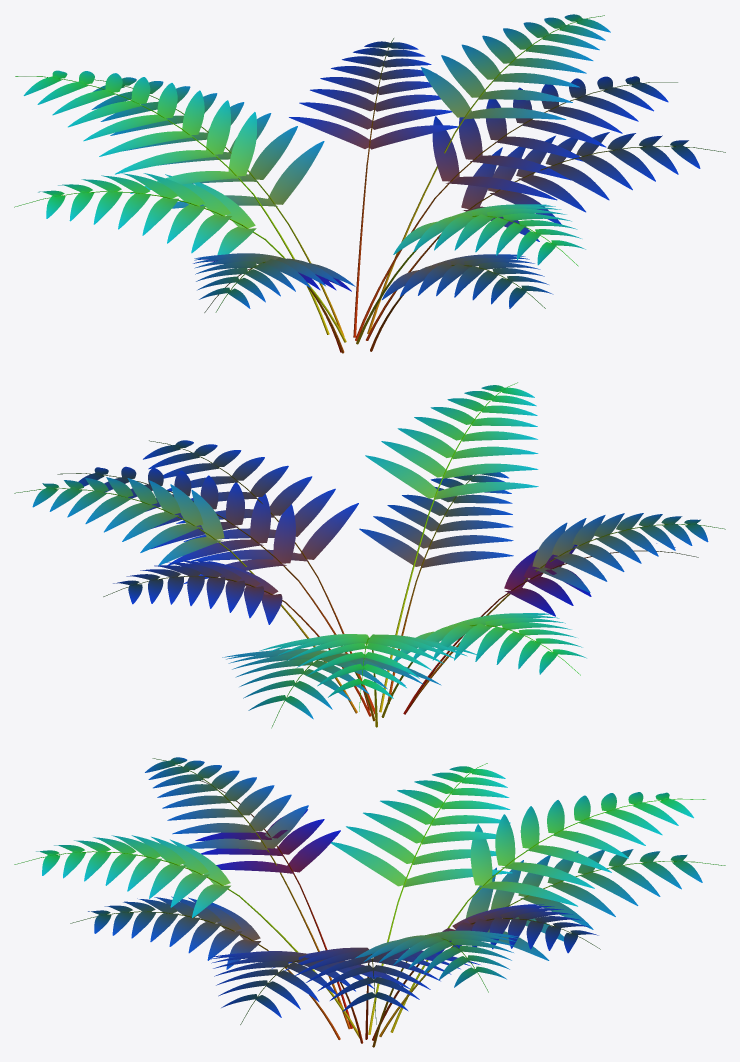
The model's file is SM_Fern_Bracken_A.fbx.
3 renders of one model, top to bottom at view 1: azimuth 30°, elevation 25°; view 2: azimuth 150°, elevation 25°; view 3: azimuth 270°, elevation 25°, orthographic. The views are drawn at different scales.
Visible parts, largest first — view 1: SM_Fern_Bracken_A; view 2: SM_Fern_Bracken_A; view 3: SM_Fern_Bracken_A.
Boxes of the visible parts, x1,y1,x2,y2 form: SM_Fern_Bracken_A: (14, 14, 725, 353); SM_Fern_Bracken_A: (14, 382, 725, 728); SM_Fern_Bracken_A: (14, 757, 725, 1047).
Bounding box in the file's own units: 2.16 × 0.7242 × 2.32.
